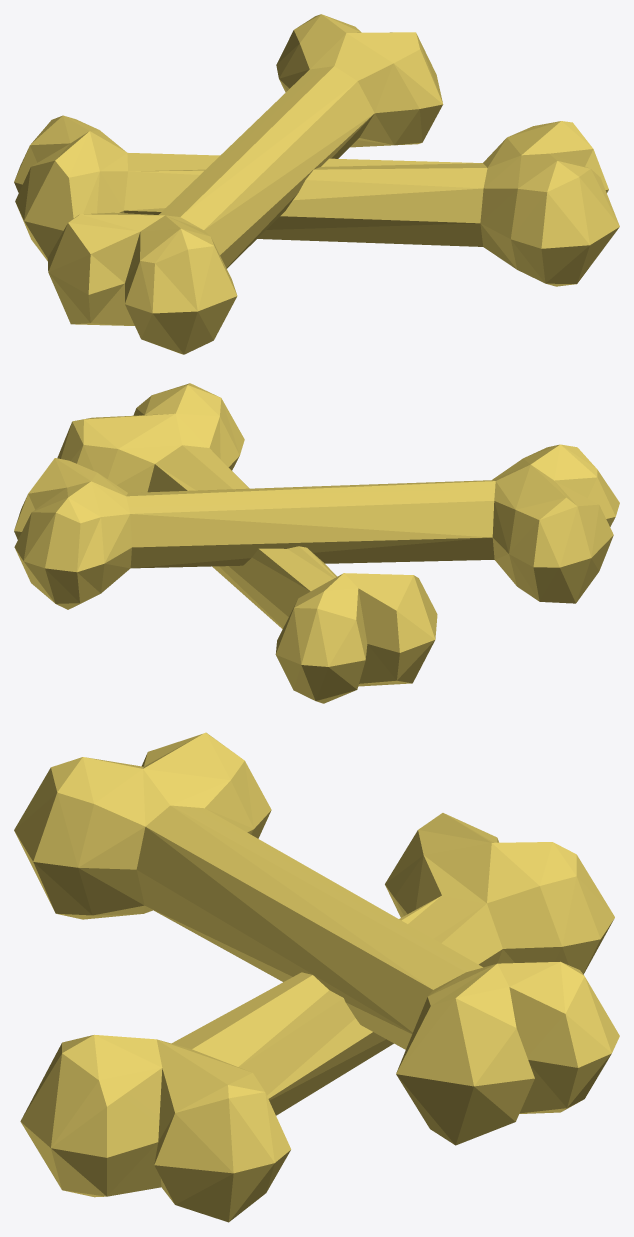
Rendered from Bones.fbx.
3 renders of one model, top to bottom at view 1: azimuth 30°, elevation 25°; view 2: azimuth 150°, elevation 25°; view 3: azimuth 270°, elevation 25°, orthographic. The views are drawn at different scales.
Visible parts, largest first — view 1: Bones; view 2: Bones; view 3: Bones.
Boxes of the visible parts, bbox=[...] form: Bones: bbox=[14, 14, 619, 354]; Bones: bbox=[14, 383, 619, 703]; Bones: bbox=[14, 732, 619, 1222].
Bounding box in the file's own units: 1 × 0.2695 × 0.7383.
